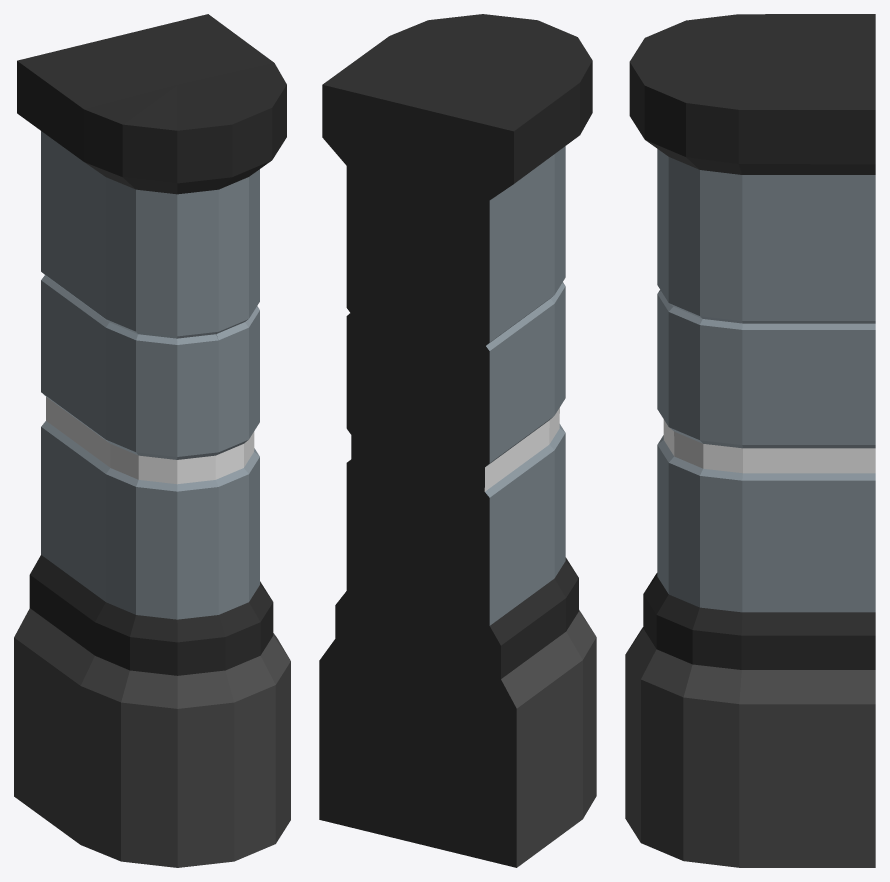
Rendered from SM_Bld_Wall_Pillar_04.fbx.
3 views of the same model, side by side, from view 1: azimuth 30°, elevation 25°; view 2: azimuth 150°, elevation 25°; view 3: azimuth 270°, elevation 25° (orthographic). The views are drawn at different scales.
Parts seen in each view (by area): view 1: SM_Bld_Wall_Pillar_04; view 2: SM_Bld_Wall_Pillar_04; view 3: SM_Bld_Wall_Pillar_04.
Boxes of the visible parts, bbox=[...] form: SM_Bld_Wall_Pillar_04: bbox=[14, 14, 290, 867]; SM_Bld_Wall_Pillar_04: bbox=[319, 14, 596, 867]; SM_Bld_Wall_Pillar_04: bbox=[625, 14, 875, 867].
Size of the model in its own units: 143 by 509 by 153.
1 material, 1 textured.
